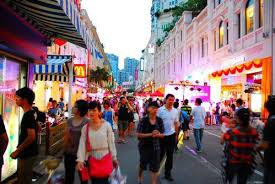people: (16, 86, 49, 184), (82, 103, 119, 184), (221, 110, 255, 184), (138, 101, 163, 184), (66, 101, 89, 184), (159, 94, 180, 184), (193, 98, 206, 152), (117, 97, 128, 143), (182, 97, 191, 139), (101, 99, 115, 126), (58, 97, 64, 111), (50, 99, 58, 109)
